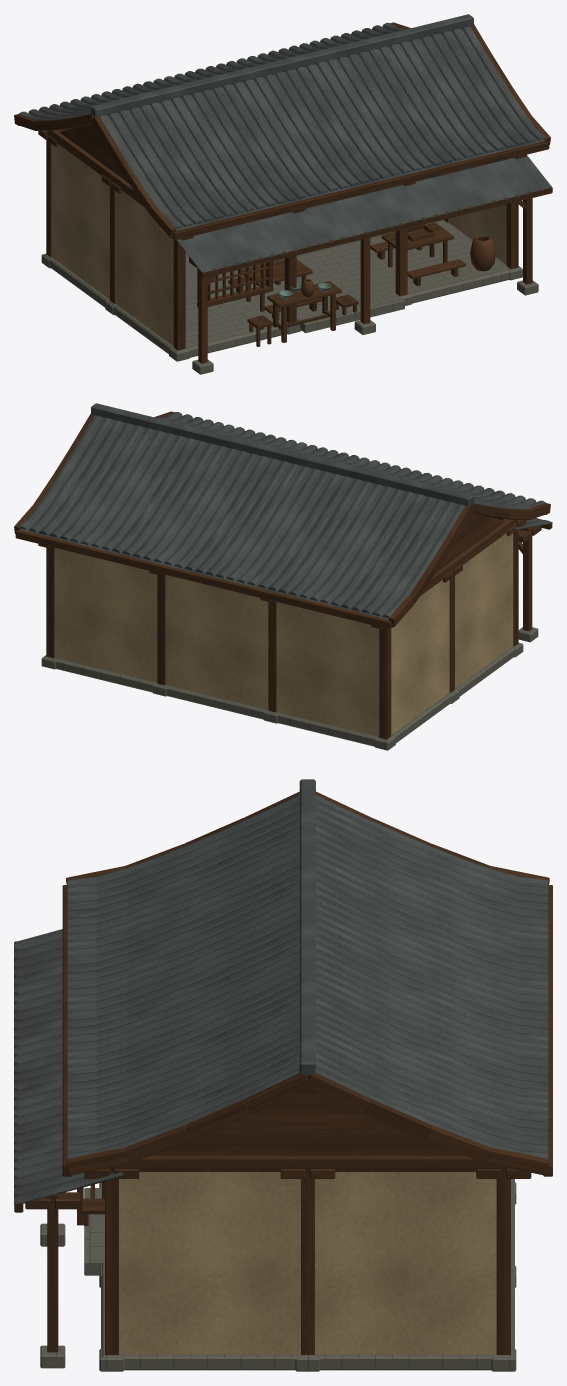
Rendered from tea-frontage.glb.
3 renders of one model, top to bottom at view 1: azimuth 30°, elevation 25°; view 2: azimuth 150°, elevation 25°; view 3: azimuth 270°, elevation 25°, orthographic. The views are drawn at different scales.
Visible parts, largest first — view 1: detail_tea_frontage_Tea weathered grey tile, detail_tea_frontage_Tea seasoned timber, detail_tea_frontage_Grey masonry, detail_tea_frontage_Tea warm clay plaster, detail_tea_frontage_Tea hand-thrown clay; view 2: detail_tea_frontage_Tea weathered grey tile, detail_tea_frontage_Tea warm clay plaster, detail_tea_frontage_Tea seasoned timber, detail_tea_frontage_Grey masonry; view 3: detail_tea_frontage_Tea weathered grey tile, detail_tea_frontage_Tea warm clay plaster, detail_tea_frontage_Tea seasoned timber, detail_tea_frontage_Grey masonry.
Part boxes in pixels (x1=…): detail_tea_frontage_Tea weathered grey tile: x1=19, y1=14, x2=552, y2=273; detail_tea_frontage_Tea seasoned timber: x1=14, y1=22, x2=552, y2=363; detail_tea_frontage_Grey masonry: x1=41, y1=220, x2=538, y2=374; detail_tea_frontage_Tea warm clay plaster: x1=51, y1=144, x2=506, y2=345; detail_tea_frontage_Tea hand-thrown clay: x1=301, y1=235, x2=495, y2=296; detail_tea_frontage_Tea weathered grey tile: x1=19, y1=403, x2=552, y2=619; detail_tea_frontage_Tea warm clay plaster: x1=54, y1=533, x2=513, y2=736; detail_tea_frontage_Tea seasoned timber: x1=14, y1=411, x2=552, y2=739; detail_tea_frontage_Grey masonry: x1=41, y1=627, x2=538, y2=750; detail_tea_frontage_Tea weathered grey tile: x1=14, y1=779, x2=548, y2=1205; detail_tea_frontage_Tea warm clay plaster: x1=119, y1=1172, x2=496, y2=1354; detail_tea_frontage_Tea seasoned timber: x1=14, y1=791, x2=552, y2=1354; detail_tea_frontage_Grey masonry: x1=40, y1=1179, x2=516, y2=1371.
Bounding box in the file's own units: 9.13 × 4.79 × 7.29.
Materials: 6 (6 with a texture image).
